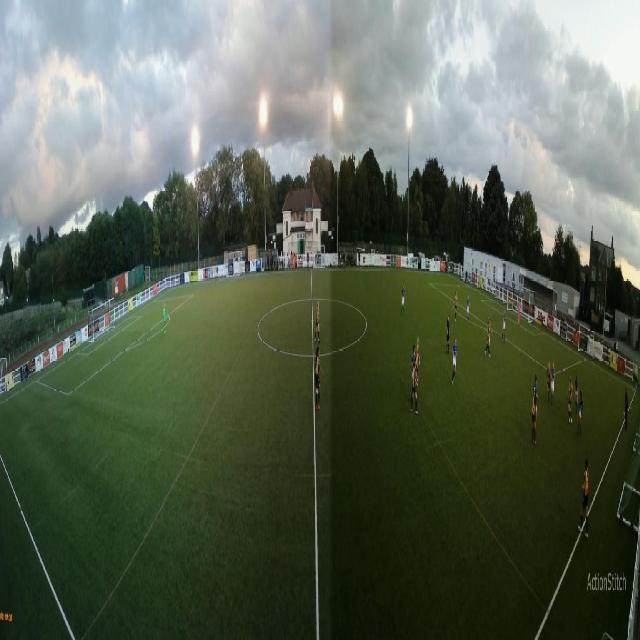player: (314, 348, 325, 412), (410, 353, 419, 415), (582, 452, 588, 513), (576, 387, 583, 437), (484, 316, 491, 360), (315, 296, 321, 346), (452, 337, 458, 385), (532, 390, 537, 444), (411, 345, 415, 403), (446, 313, 451, 355), (551, 361, 556, 403), (568, 376, 572, 425), (162, 301, 167, 333), (415, 340, 420, 372), (547, 361, 551, 400), (575, 375, 579, 413), (402, 282, 406, 318), (502, 308, 506, 344), (454, 291, 458, 323), (466, 293, 470, 325), (534, 373, 538, 399), (518, 302, 520, 327)
